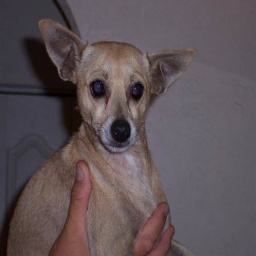dog: (6, 17, 193, 256)
